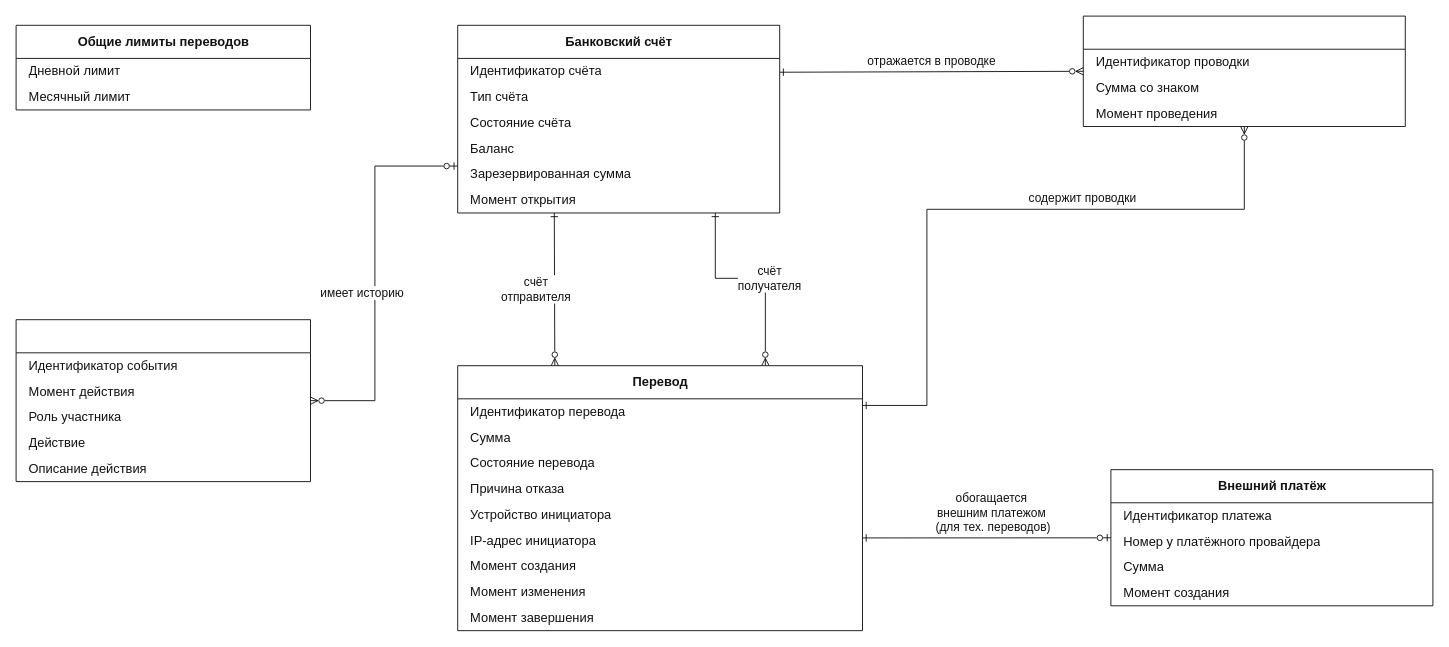
The diagram is 1449 pixels wide and 647 high, and some of its shapes have lost their labels. Here are the shapes that lost their labels. From the top down, the box of each, then its label:
(1082, 15, 1405, 126): Проводка
(15, 319, 310, 482): Событие аудита
